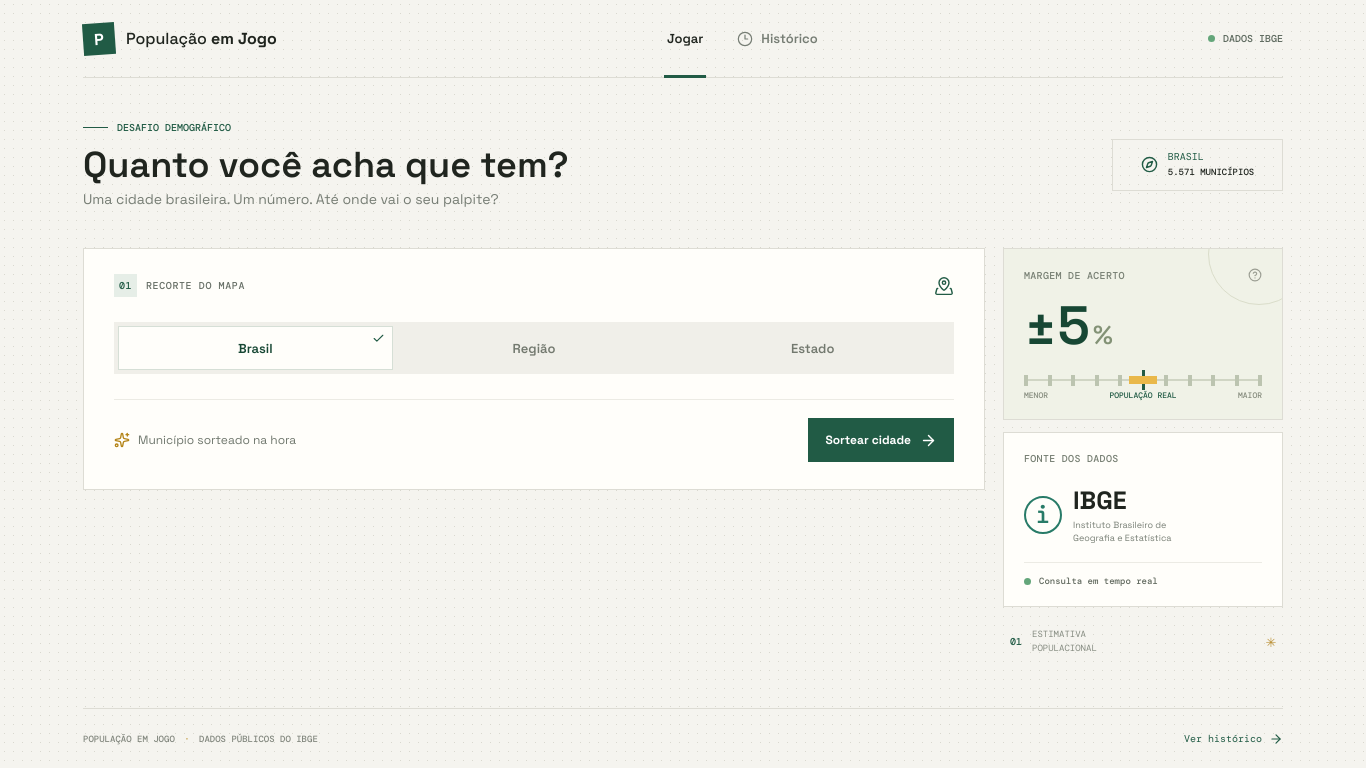
App › exibe o feedback de um palpite incorreto e registra a tentativa
Click the button "Sortear cidade".
click(881, 440)  # box [808,418,954,462]
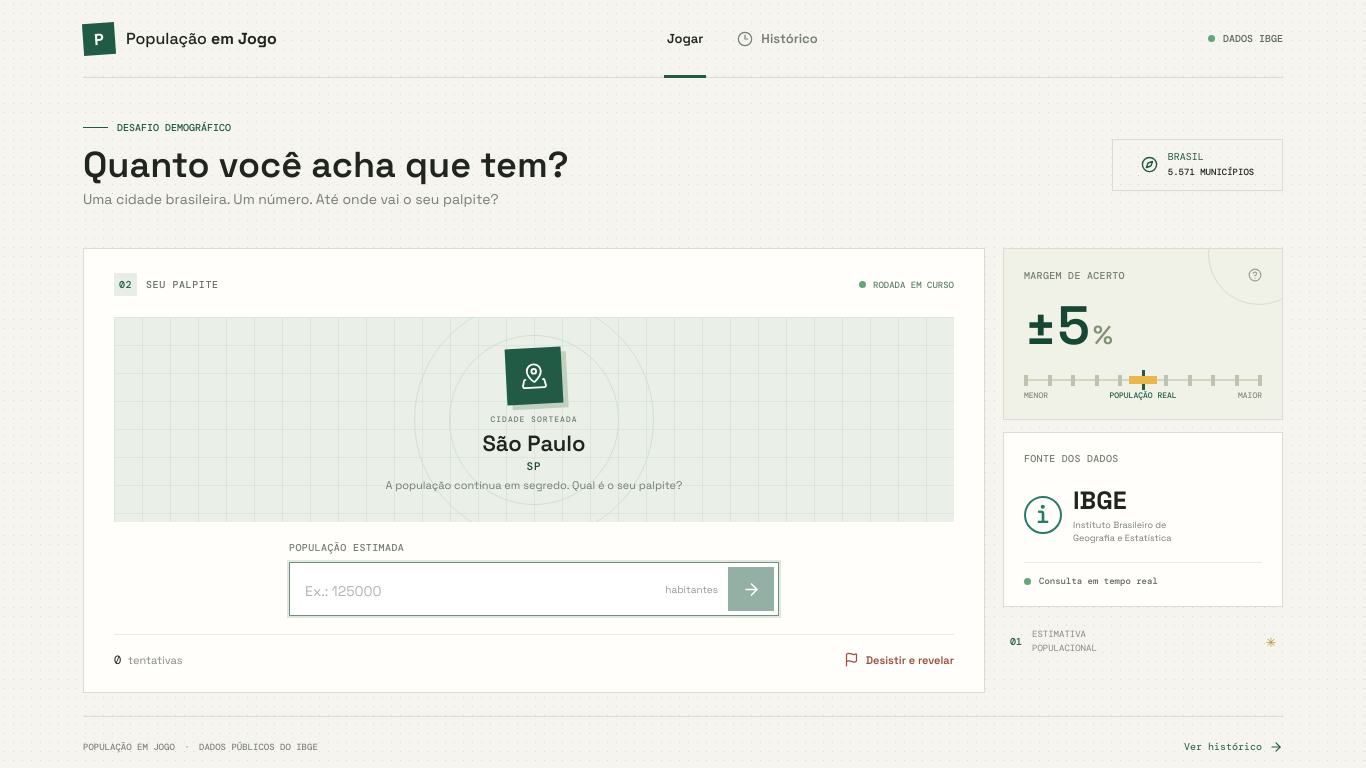
Type "1000" into the field labelled "POPULAÇÃO ESTIMADA".
click(509, 589); type("1000")  # box [290,563,728,615]
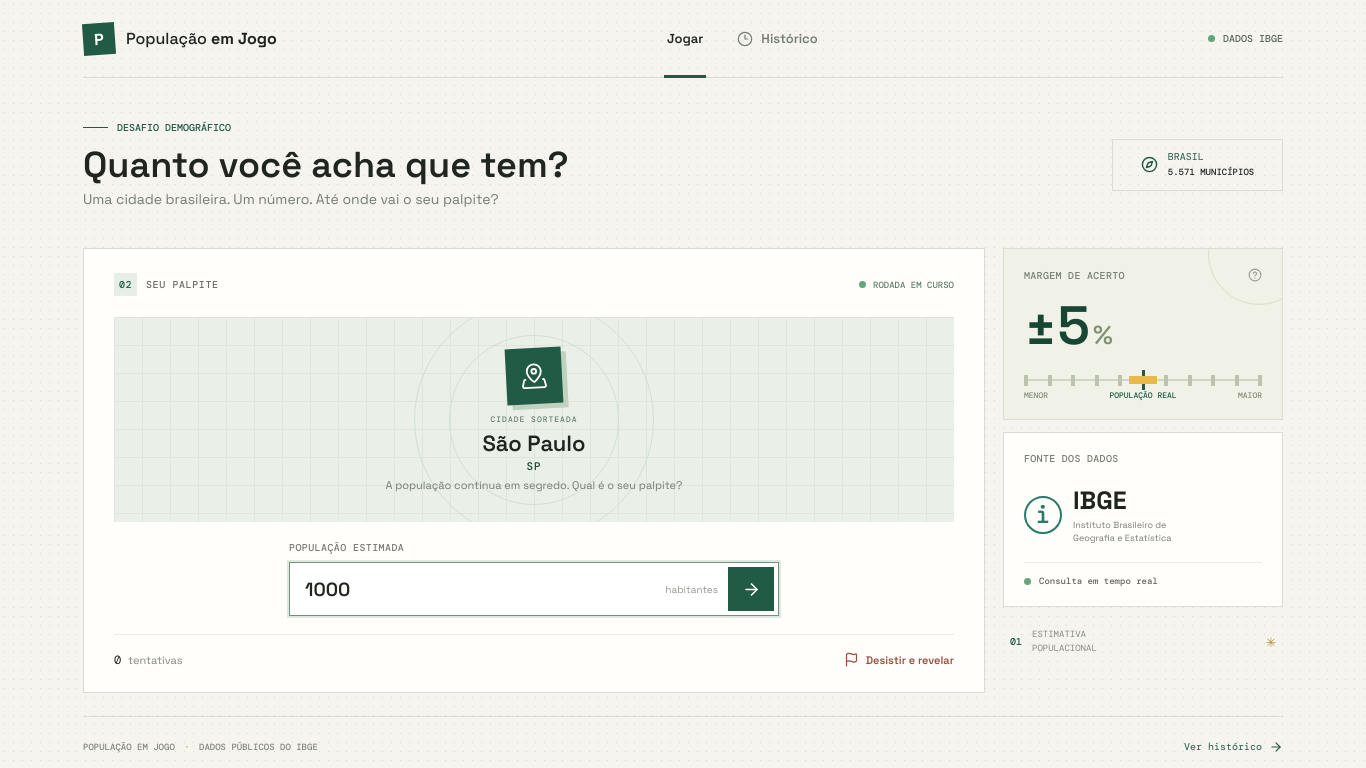
Click the button named "Enviar palpite".
click(751, 589)  # box [728,567,774,611]
(page scrolled)
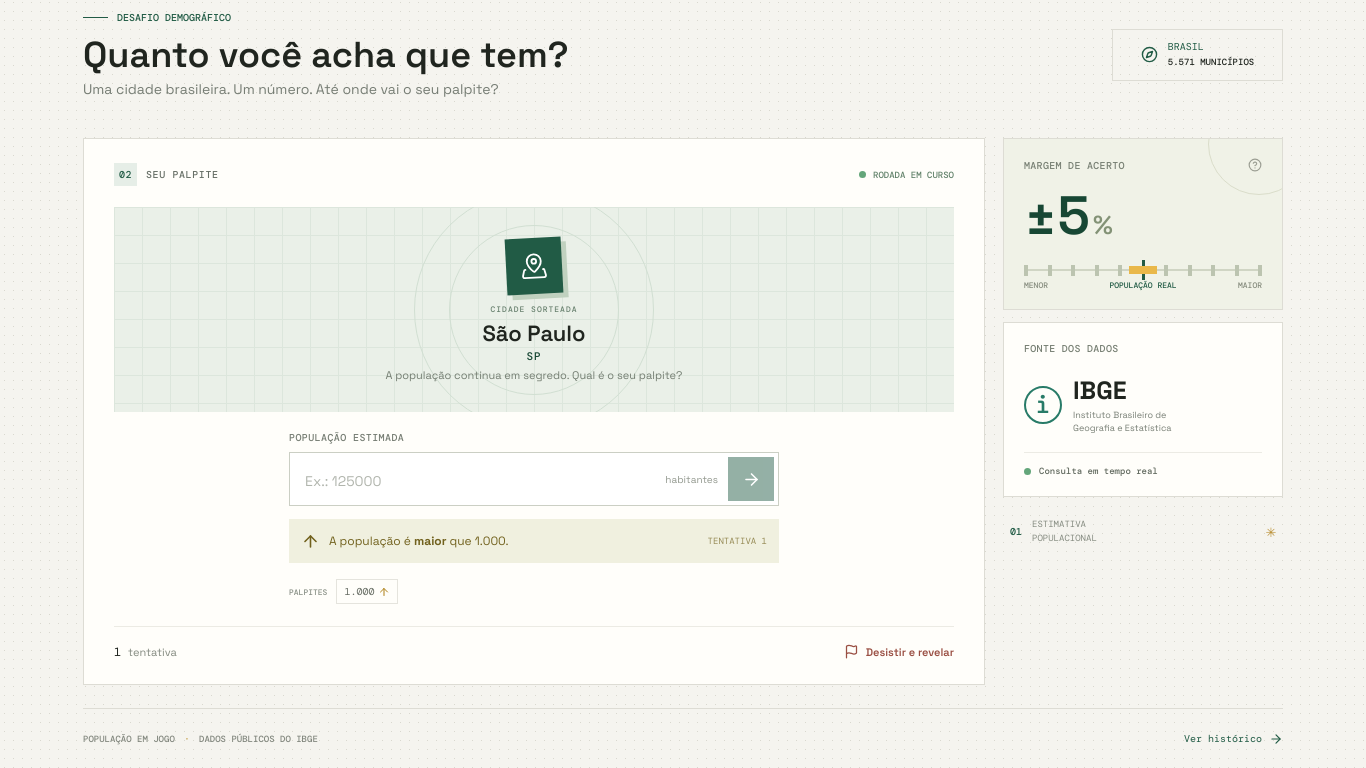
Expected: the message shows "A população é maior que 1.000.", [289,519,779,563]
Expected: the element showing "1 tentativa" is shown, [114,644,177,660]
